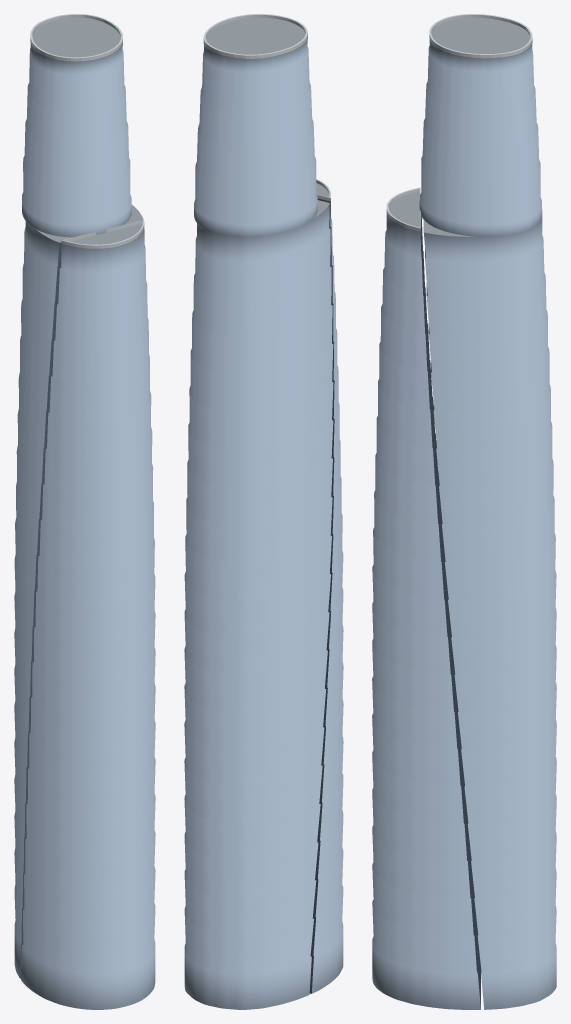
File: chongqing-international-land-sea-center.detail.glb
The picture shows the model from 3 angles, left to right: view 1: azimuth 30°, elevation 25°; view 2: azimuth 150°, elevation 25°; view 3: azimuth 270°, elevation 25°; orthographic projection.
Parts seen in each view (by area): view 1: International Land-Sea Center; view 2: International Land-Sea Center; view 3: International Land-Sea Center.
Part boxes in pixels (bbox=[...]): International Land-Sea Center: bbox=[14, 14, 155, 1009]; International Land-Sea Center: bbox=[184, 14, 343, 1009]; International Land-Sea Center: bbox=[372, 14, 556, 1009].
Bounding box in the file's own units: 59.77 × 458 × 81.04.
